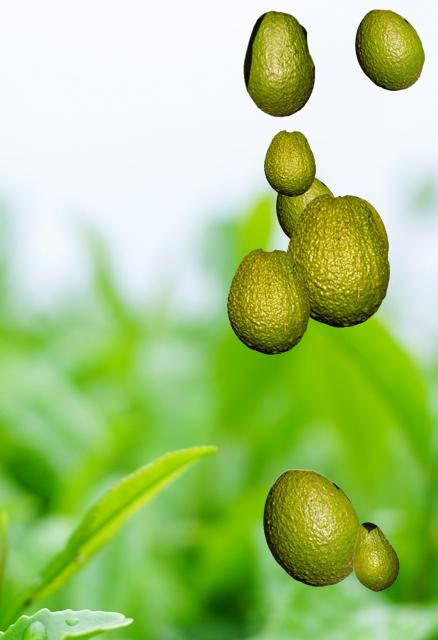avocado: (286, 193, 388, 326), (263, 469, 359, 585), (227, 248, 308, 353), (243, 10, 314, 116), (355, 9, 423, 89), (276, 176, 334, 238), (264, 130, 314, 195), (353, 522, 398, 590), (335, 195, 387, 249)
